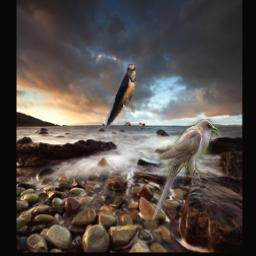Cuckoo: (151, 120, 218, 225)
Swallow: (105, 62, 136, 127)
